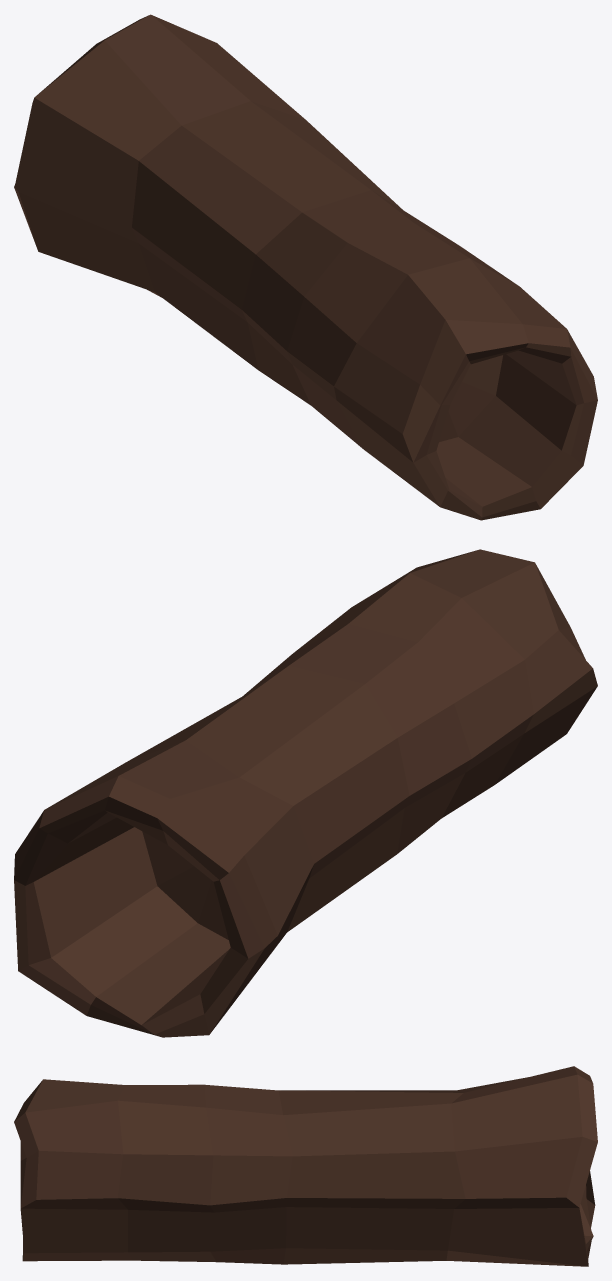
Rendered from log_001.fbx.
3 renders of one model, top to bottom at view 1: azimuth 30°, elevation 25°; view 2: azimuth 150°, elevation 25°; view 3: azimuth 270°, elevation 25°, orthographic. The views are drawn at different scales.
Visible parts, largest first — view 1: log_001; view 2: log_001; view 3: log_001.
Part boxes in pixels (box(x1,y1,x2,y2)): log_001: box(14, 14, 597, 520); log_001: box(14, 549, 597, 1037); log_001: box(14, 1066, 597, 1266).
Bounding box in the file's own units: 417 × 373 × 1088.
